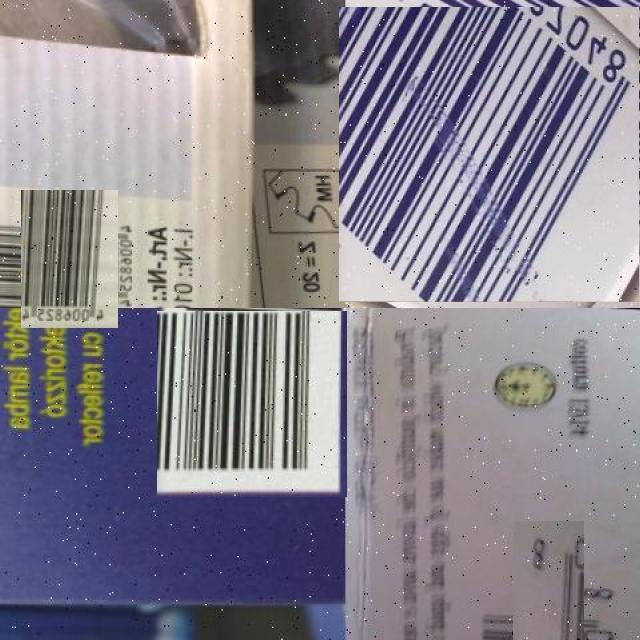Barcode: (341, 4, 640, 305), (158, 309, 346, 498), (11, 200, 128, 319), (488, 545, 607, 640)
